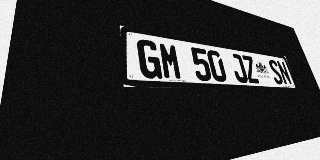0: (206, 49, 228, 82)
5: (190, 47, 213, 81)
G: (136, 38, 163, 79)
J: (229, 53, 249, 83)
M: (158, 42, 183, 80)
N: (276, 60, 293, 85)
S: (267, 59, 284, 85)
Z: (241, 55, 260, 83)
